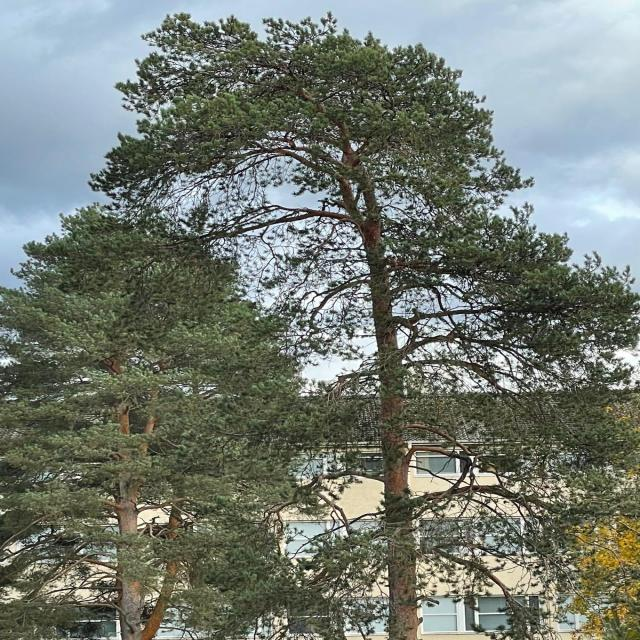pine: (50, 6, 640, 622)
